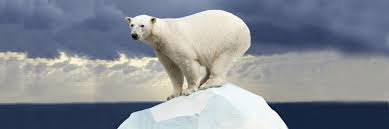PolarBear: (122, 6, 260, 98)
